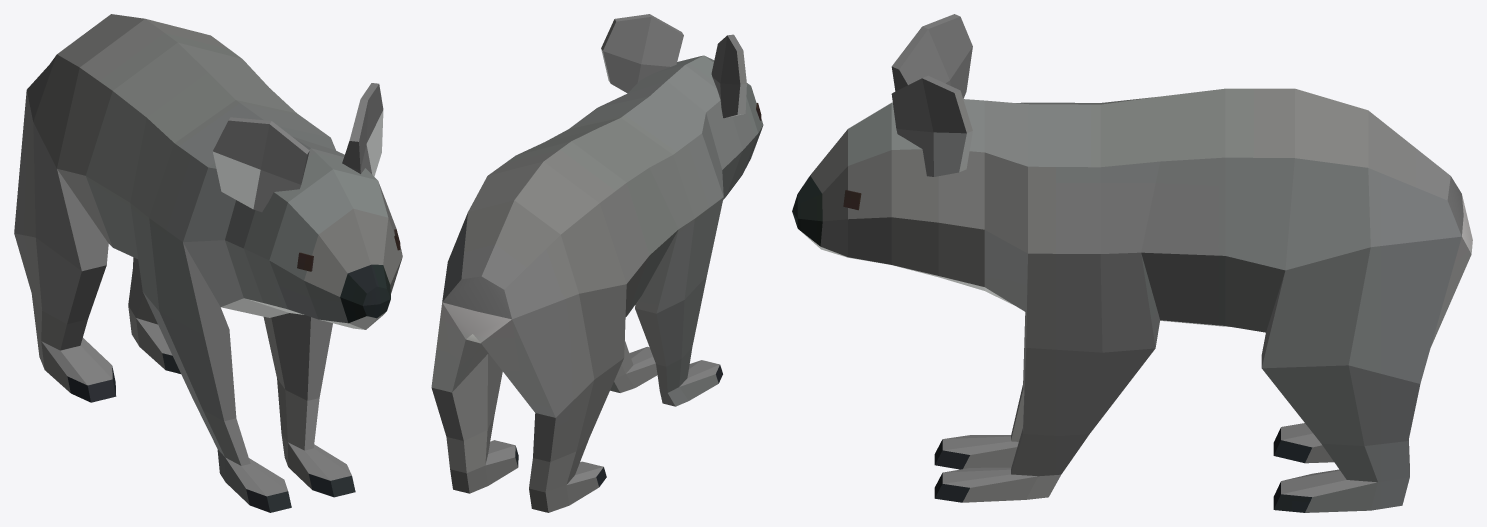
File: fzCu8FM0HfB.glb
3 views of the same model, side by side, from view 1: azimuth 30°, elevation 25°; view 2: azimuth 150°, elevation 25°; view 3: azimuth 270°, elevation 25° (orthographic). The views are drawn at different scales.
Visible parts, largest first — view 1: Geo_Koala; view 2: Geo_Koala; view 3: Geo_Koala.
Part boxes in pixels (x1,y1,x2,y2): Geo_Koala: (14,14,402,512); Geo_Koala: (431,14,763,512); Geo_Koala: (792,14,1472,512).
Size of the model in its own units: 0.4923 by 1 by 1.46.
Materials: 1 (1 with a texture image).
